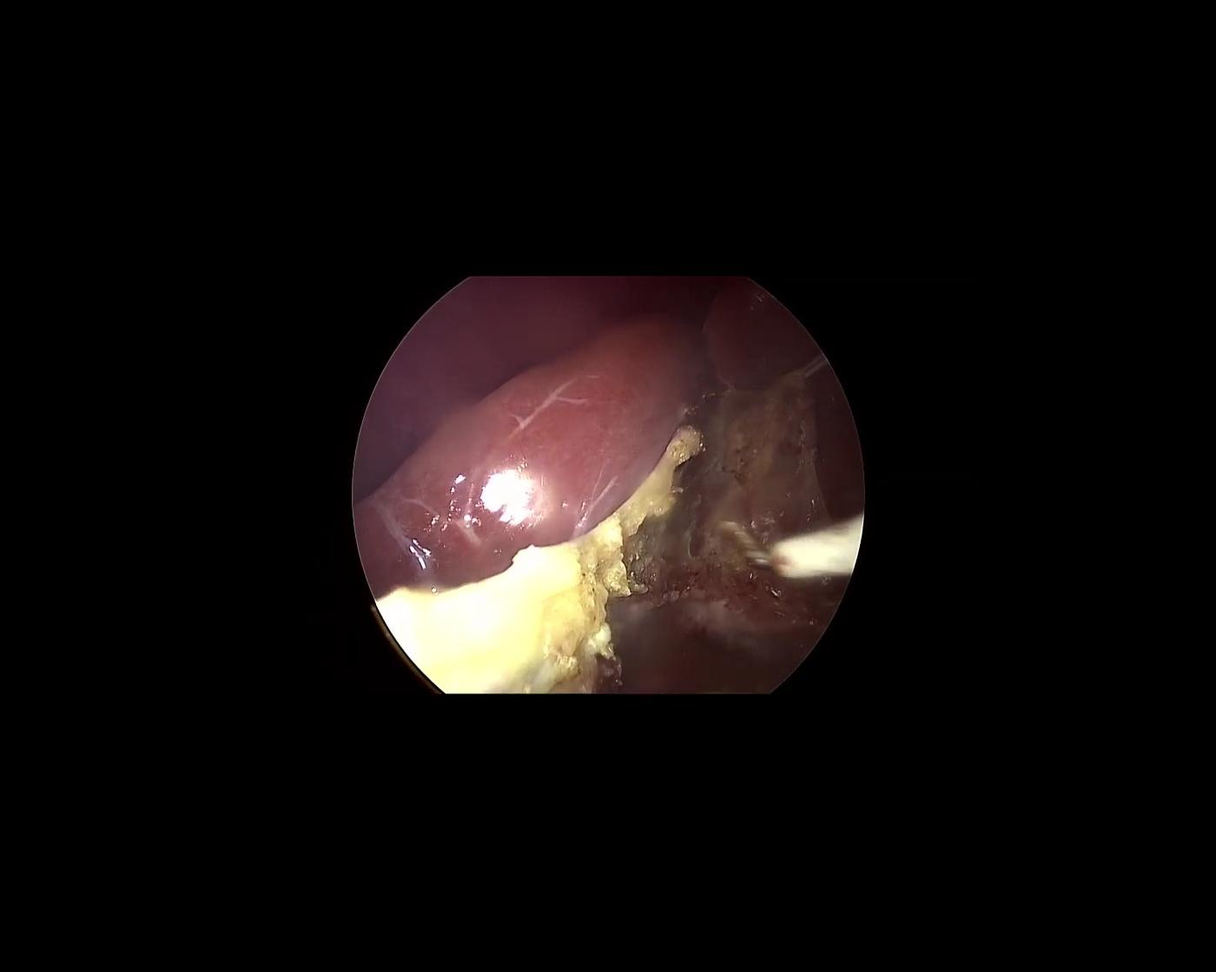Cautery: (725, 510, 867, 582)
Liver: (326, 260, 871, 603)
